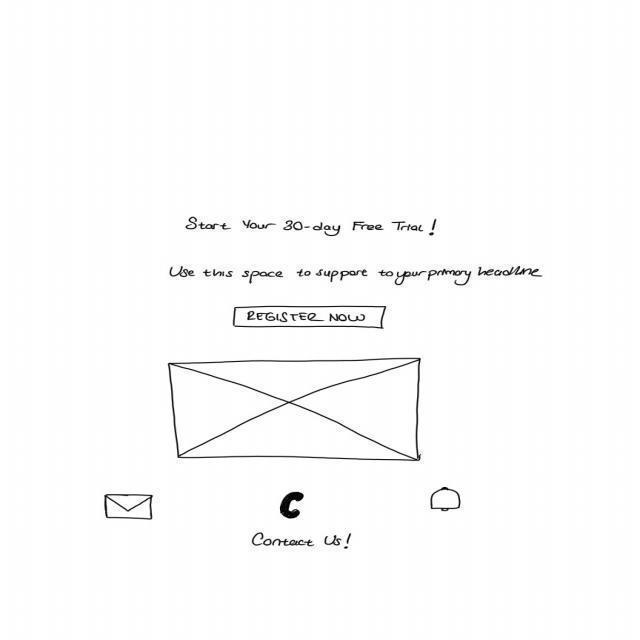button: (233, 305, 390, 331)
image: (170, 357, 425, 463)
label: (168, 266, 545, 288), (185, 217, 440, 238), (252, 532, 355, 553)
